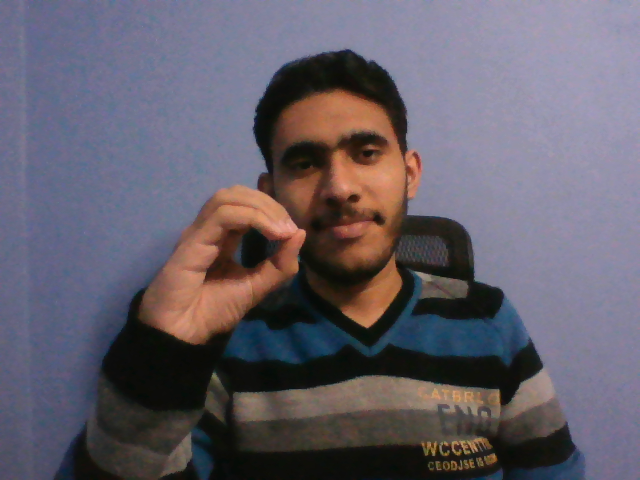O: (137, 179, 314, 354)
